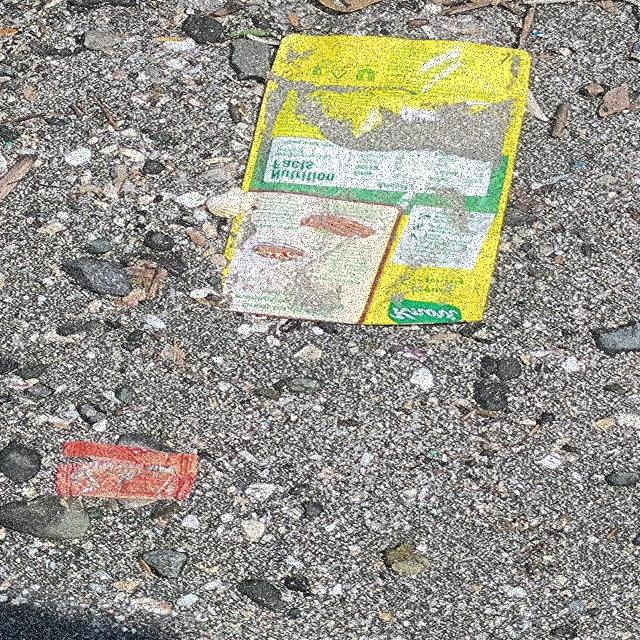plastic_waste: (211, 34, 536, 328), (55, 441, 201, 502)
